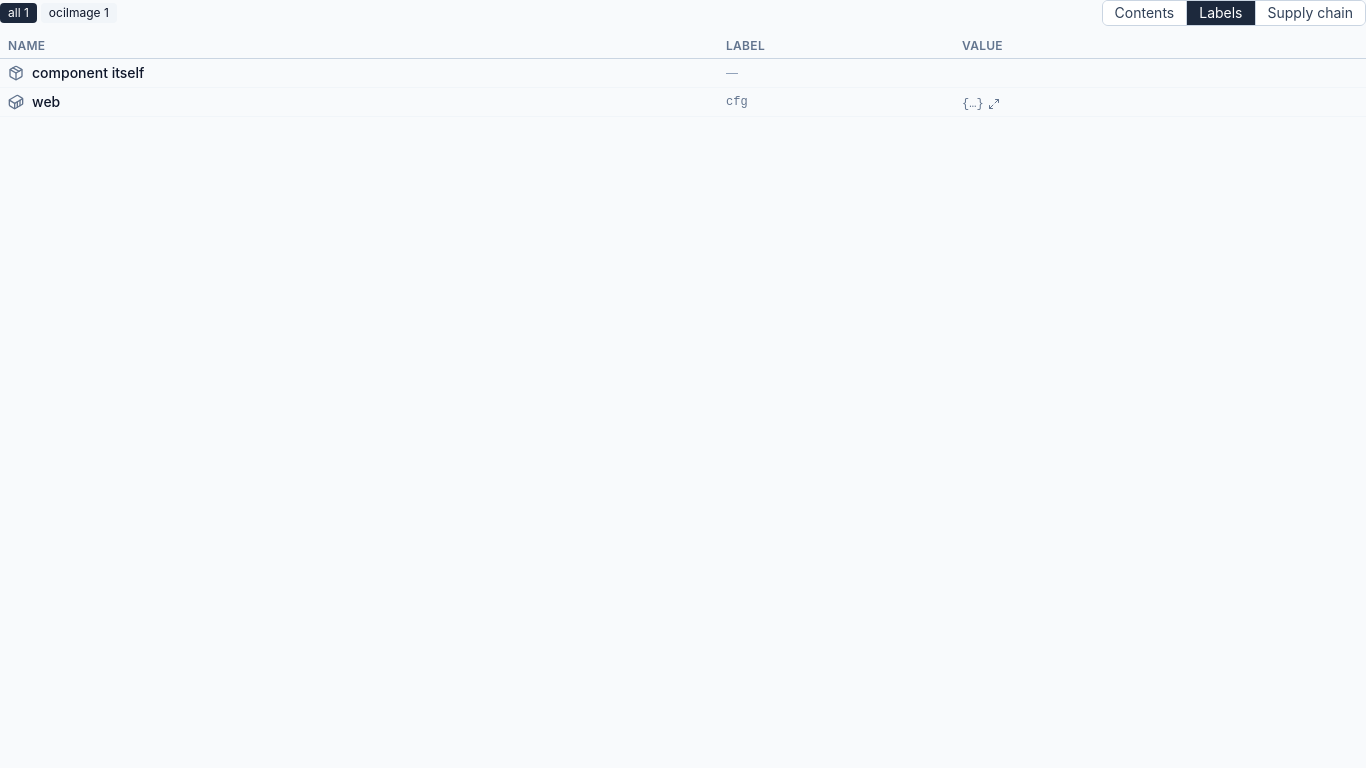
Scenario: labels view: object value shows {…} and opens a JSON modal on click, without an eye
The width and height of the screenshot is (1366, 768).
Step 1. Click the button named "Show cfg" → (981, 104), box [962,96,1000,112]
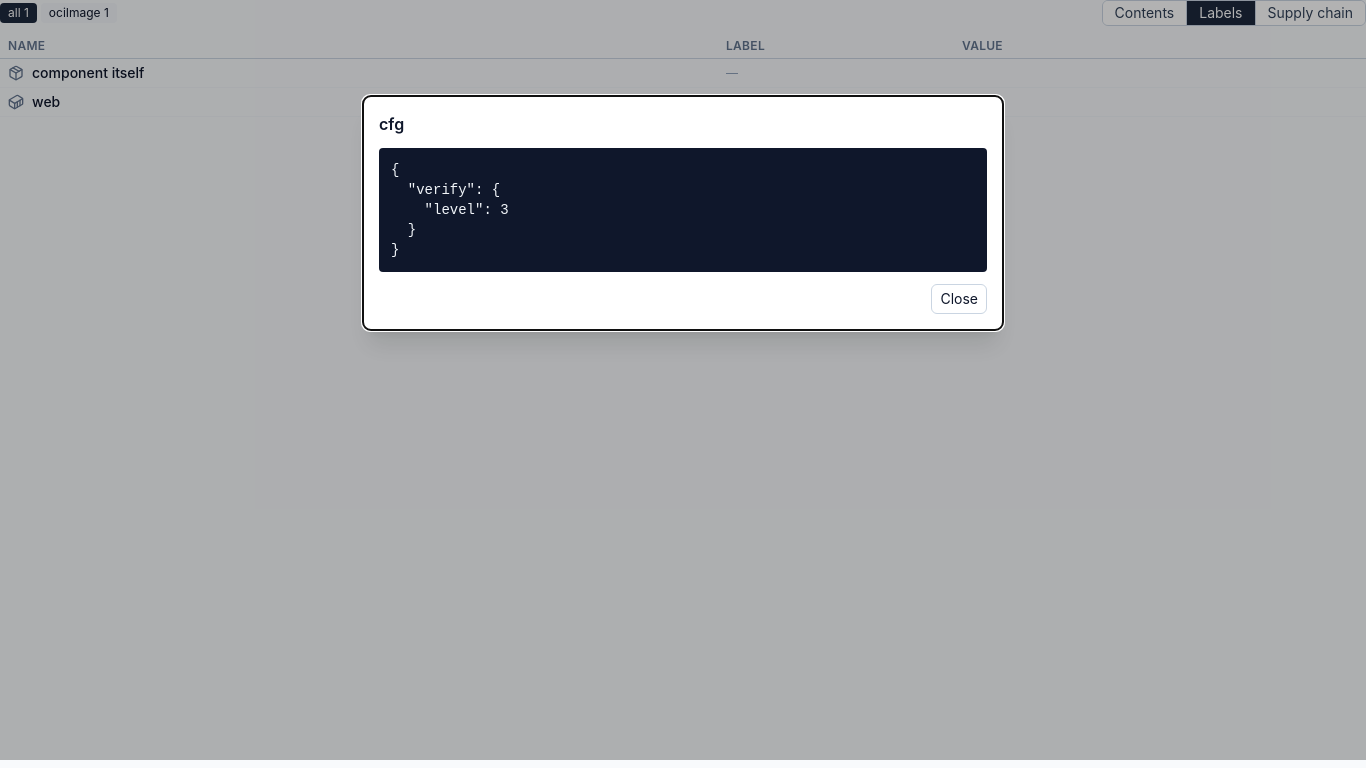
expect the text "{ \"verify\": { \"level\": 3 } }" is shown: met, box [379,148,987,272]
